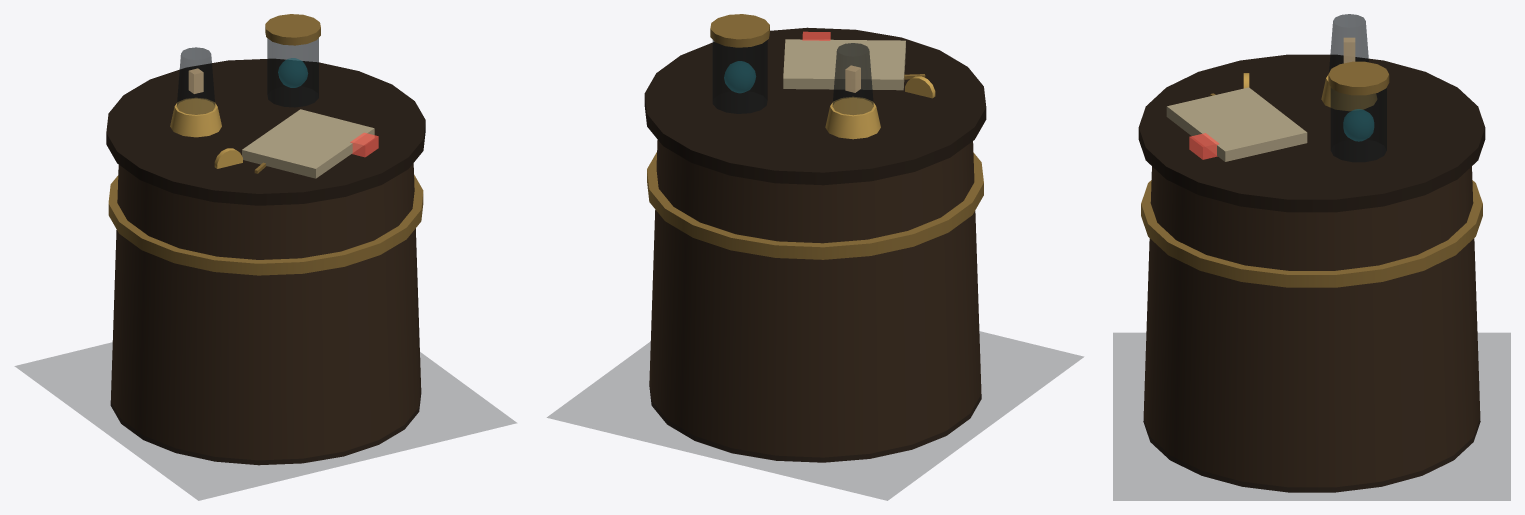
The model's file is hp_room_desire_evidence_cluster.glb.
3 views of the same model, side by side, from view 1: azimuth 30°, elevation 25°; view 2: azimuth 150°, elevation 25°; view 3: azimuth 270°, elevation 25° (orthographic). The views are drawn at different scales.
Parts seen in each view (by area): view 1: drum_table, drum_top, contact_shadow, drum_band, folder, specimen_jar, oil_lamp_glass, oil_lamp_base, specimen_lid, specimen_blob; view 2: drum_table, drum_top, contact_shadow, drum_band, folder, specimen_jar, oil_lamp_glass, oil_lamp_base, specimen_lid, specimen_blob; view 3: drum_table, drum_top, contact_shadow, drum_band, folder, specimen_jar, specimen_lid, oil_lamp_glass, oil_lamp_base, specimen_blob, folder_tab.
Boxes of the visible parts, left/top/right/bottom form: drum_table: left=110, top=163, right=421, bottom=465; drum_top: left=106, top=59, right=425, bottom=205; contact_shadow: left=15, top=342, right=516, bottom=500; drum_band: left=108, top=174, right=423, bottom=275; folder: left=242, top=109, right=374, bottom=178; specimen_jar: left=267, top=38, right=318, bottom=107; oil_lamp_glass: left=176, top=47, right=215, bottom=114; oil_lamp_base: left=170, top=98, right=221, bottom=137; specimen_lid: left=265, top=14, right=320, bottom=45; specimen_blob: left=278, top=58, right=307, bottom=87; drum_table: left=649, top=140, right=981, bottom=462; drum_top: left=644, top=27, right=986, bottom=185; contact_shadow: left=547, top=331, right=1083, bottom=500; drum_band: left=647, top=152, right=983, bottom=259; folder: left=783, top=39, right=905, bottom=90; specimen_jar: left=712, top=40, right=767, bottom=113; oil_lamp_glass: left=832, top=43, right=873, bottom=114; oil_lamp_base: left=825, top=97, right=880, bottom=139; specimen_lid: left=710, top=14, right=769, bottom=47; specimen_blob: left=724, top=61, right=755, bottom=92; drum_table: left=1143, top=166, right=1480, bottom=492; drum_top: left=1138, top=54, right=1485, bottom=212; contact_shadow: left=1113, top=333, right=1510, bottom=500; drum_band: left=1141, top=180, right=1482, bottom=287; folder: left=1166, top=87, right=1307, bottom=161; specimen_jar: left=1330, top=88, right=1386, bottom=162; specimen_lid: left=1328, top=61, right=1389, bottom=95; oil_lamp_glass: left=1329, top=14, right=1368, bottom=72; oil_lamp_base: left=1321, top=75, right=1376, bottom=110; specimen_blob: left=1343, top=109, right=1373, bottom=141; folder_tab: left=1189, top=133, right=1219, bottom=159.
Bounding box in the file's own units: 0.85 × 0.88 × 0.85.
